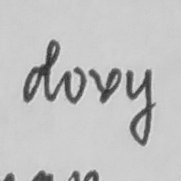d: (19, 37, 62, 105)
o: (62, 64, 88, 107)
x: (88, 64, 123, 106)
y: (123, 66, 156, 149)
